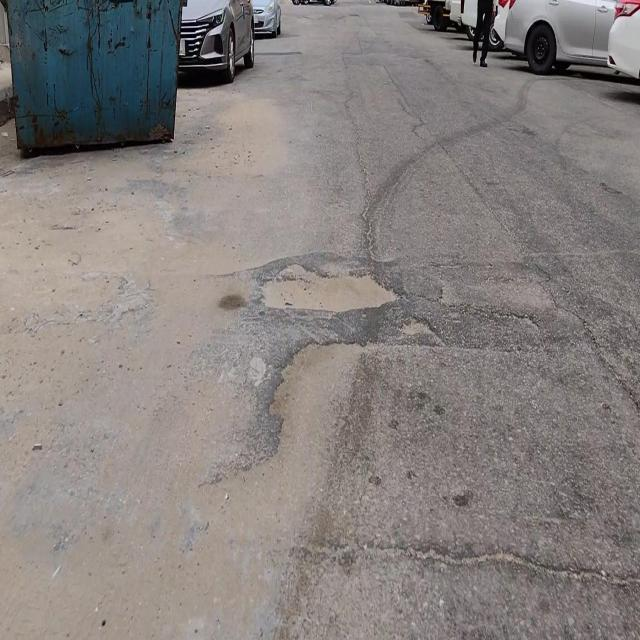Pothole: (257, 257, 407, 320)
